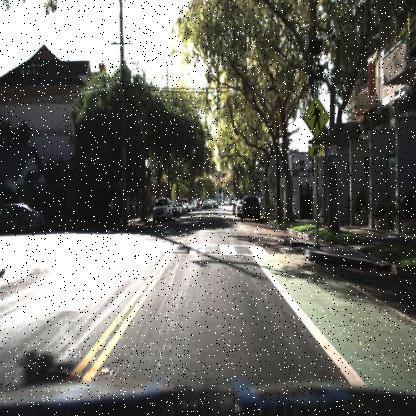car: (0, 201, 43, 237), (239, 193, 260, 224), (150, 196, 173, 222), (240, 193, 261, 221)
